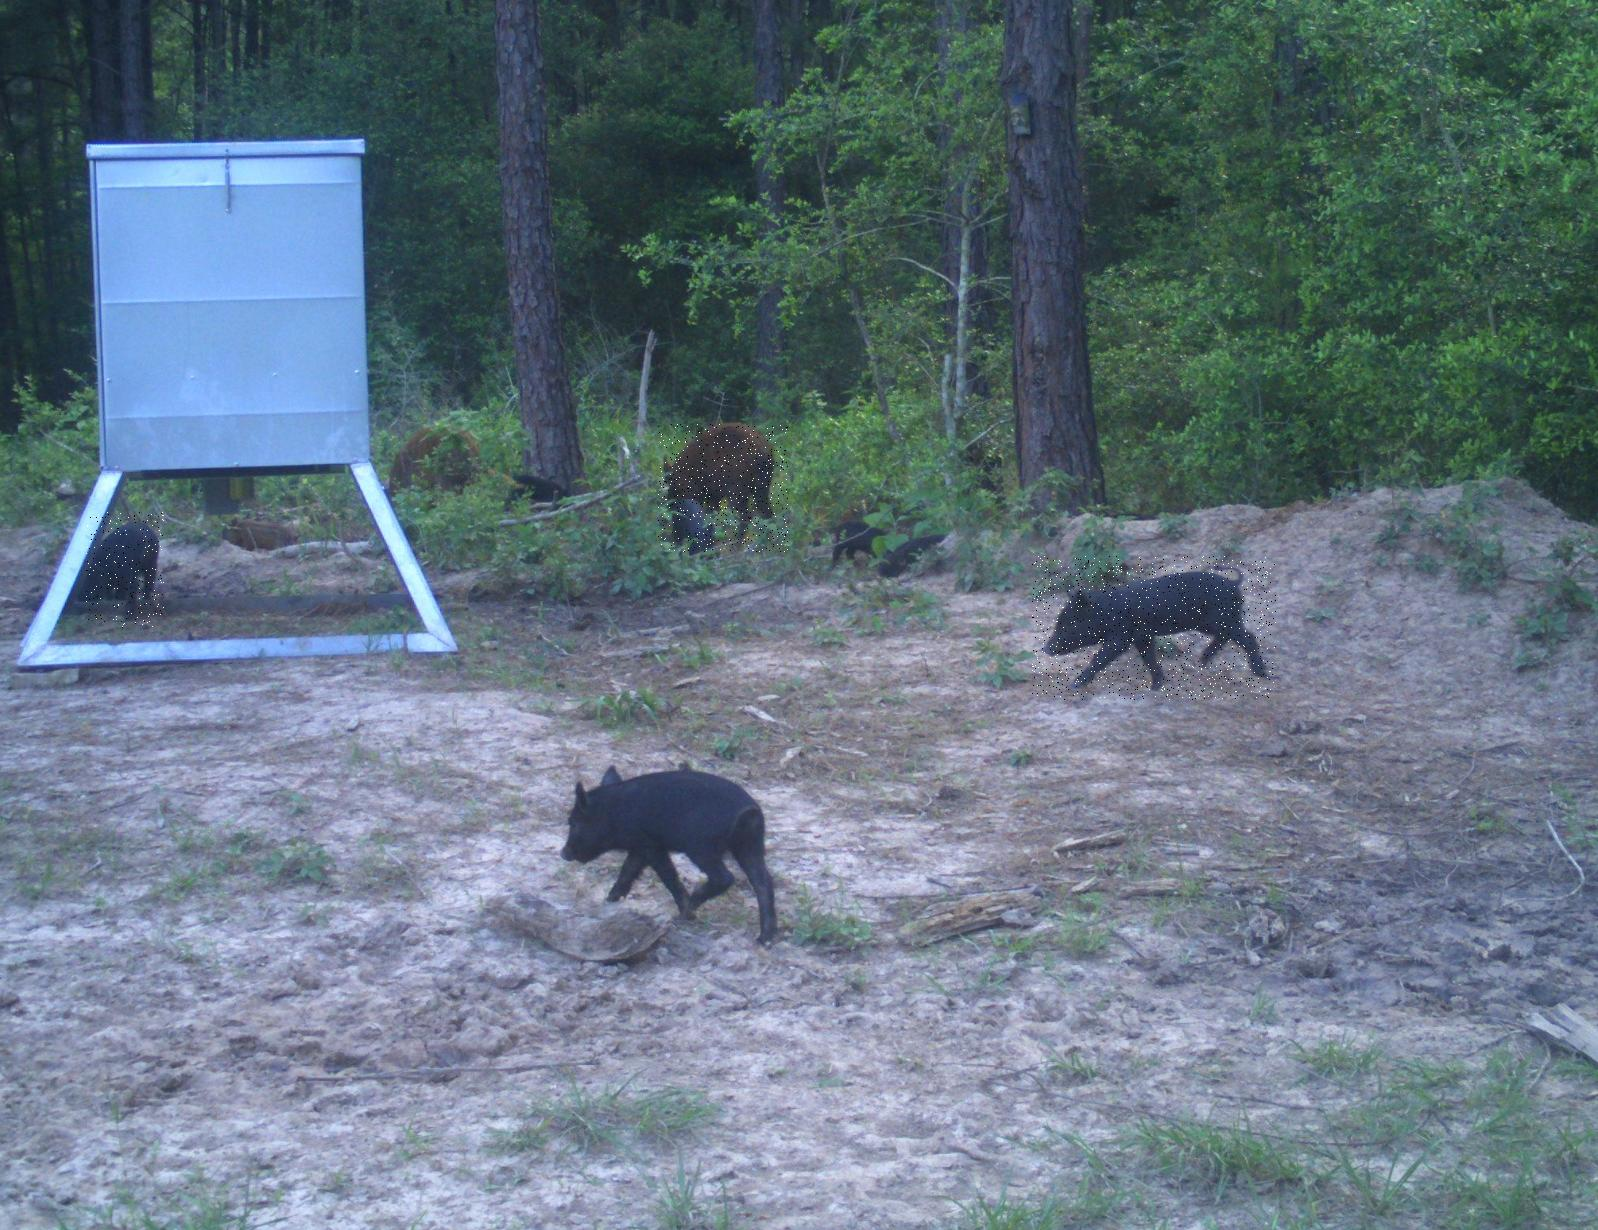Hog: (554, 764, 804, 950), (1032, 557, 1276, 700), (658, 424, 788, 552), (85, 512, 164, 628)
